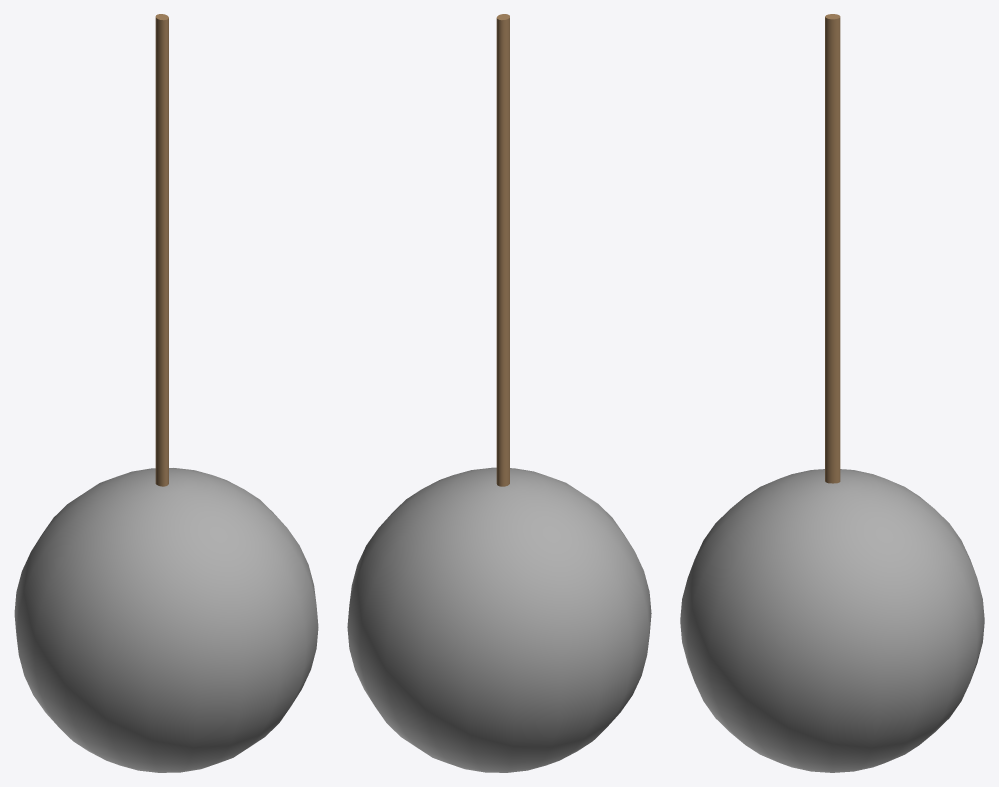
The model's file is Aquatic_Bubble_medium02.fbx.
3 views of the same model, side by side, from view 1: azimuth 30°, elevation 25°; view 2: azimuth 150°, elevation 25°; view 3: azimuth 270°, elevation 25° (orthographic).
Visible parts, largest first — view 1: pSphere4, pCylinder3; view 2: pSphere4, pCylinder3; view 3: pSphere4, pCylinder3.
Boxes of the visible parts, bbox=[...] form: pSphere4: bbox=[14, 468, 318, 772]; pCylinder3: bbox=[155, 14, 168, 486]; pSphere4: bbox=[347, 467, 651, 772]; pCylinder3: bbox=[496, 14, 509, 486]; pSphere4: bbox=[680, 469, 984, 772]; pCylinder3: bbox=[825, 14, 840, 483].
Size of the model in its own units: 2.34 by 6.27 by 2.34.
